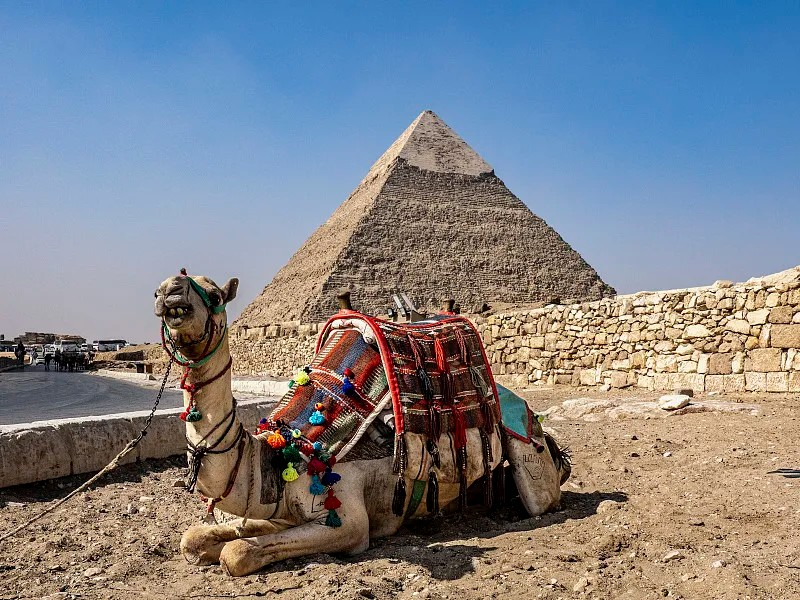Pyramid: (231, 109, 615, 321)
